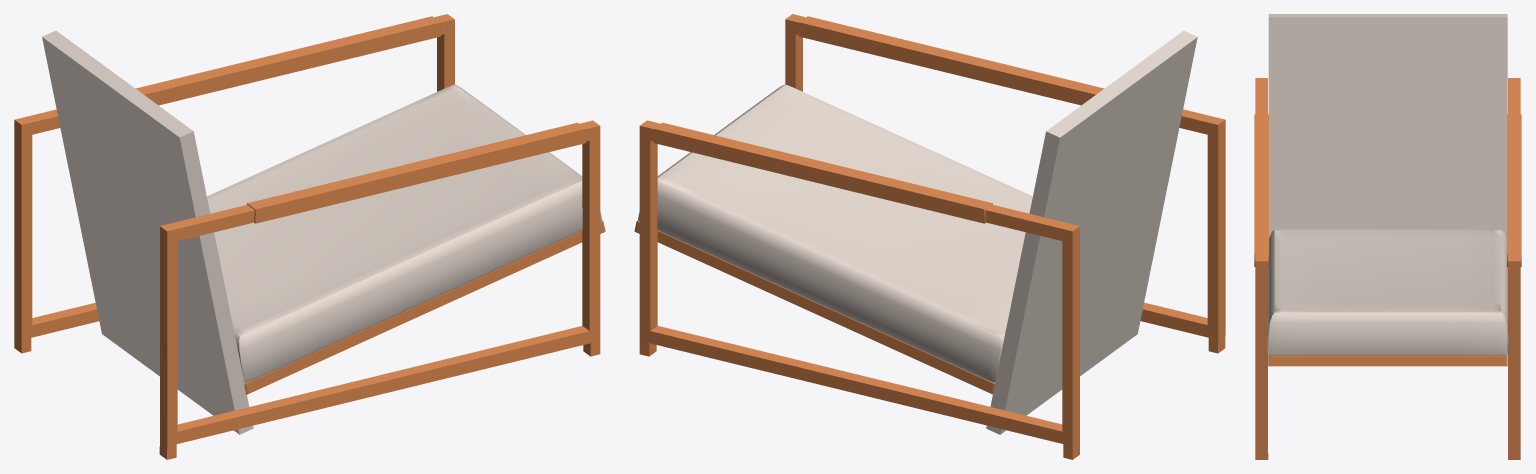
The model's file is MSH_Lobby_Silla1.fbx.
3 views of the same model, side by side, from view 1: azimuth 30°, elevation 25°; view 2: azimuth 150°, elevation 25°; view 3: azimuth 270°, elevation 25° (orthographic). The views are drawn at different scales.
Parts seen in each view (by area): view 1: MSH_Lobby_Silla1; view 2: MSH_Lobby_Silla1; view 3: MSH_Lobby_Silla1.
Part boxes in pixels (x1=…): MSH_Lobby_Silla1: x1=14, y1=14, x2=605, y2=459; MSH_Lobby_Silla1: x1=634, y1=14, x2=1225, y2=459; MSH_Lobby_Silla1: x1=1254, y1=14, x2=1521, y2=459.
Size of the model in its own units: 151 by 102 by 90.47.
